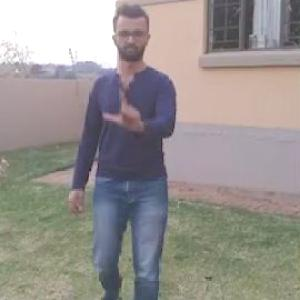land_hand: (102, 79, 150, 141)
